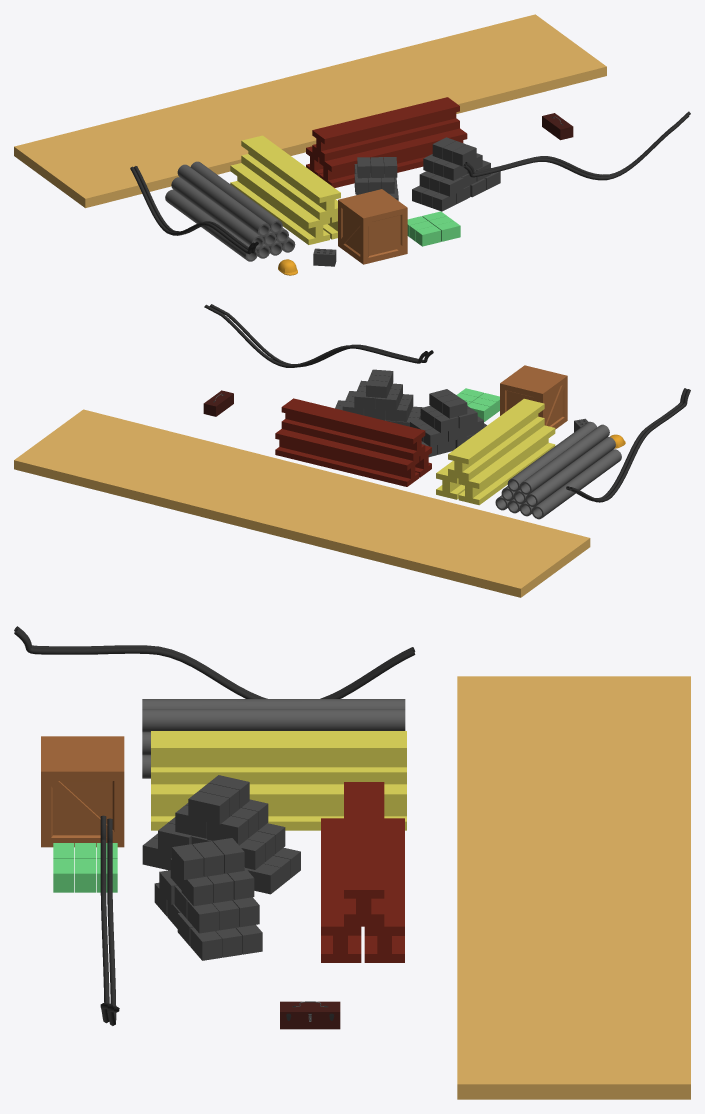
Rendered from AssetsConstru1.fbx.
The picture shows the model from 3 angles, top to bottom: view 1: azimuth 30°, elevation 25°; view 2: azimuth 150°, elevation 25°; view 3: azimuth 270°, elevation 25°; orthographic projection. The views are drawn at different scales.
Parts seen in each view (by area): view 1: planche, poutres2, poutres1, tubesPVC, CaissesBois, TasAgglos, TasAglglo2, cables2, petitTasAgglo, cables1, AggloSimple; view 2: planche, poutres2, poutres1, tubesPVC, TasAglglo2, CaissesBois, TasAgglos, cables2, cables1, petitTasAgglo; view 3: planche, poutres1, poutres2, TasAgglos, tubesPVC, CaissesBois, TasAglglo2, cables1, petitTasAgglo, cables2, hautCaisse, basCaisse.
Boxes of the visible parts, x1,y1,x2,y2 form: planche: (14,14,606,208); poutres2: (306,97,467,187); poutres1: (230,135,340,244); tubesPVC: (165,161,295,261); CaissesBois: (338,189,407,264); TasAgglos: (412,137,500,211); TasAglglo2: (354,157,398,200); cables2: (463,111,690,180); petitTasAgglo: (407,211,460,246); cables1: (130,166,258,254); AggloSimple: (313,248,336,266); planche: (14,409,590,597); poutres2: (275,398,431,486); poutres1: (436,398,555,505); tubesPVC: (495,421,621,519); TasAglglo2: (410,389,486,457); CaissesBois: (500,365,567,429); TasAgglos: (335,369,422,426); cables2: (204,304,433,367); cables1: (566,388,690,502); petitTasAgglo: (456,388,499,421); planche: (457,676,690,1099); poutres1: (151,731,406,830); poutres2: (321,782,404,962); TasAgglos: (154,838,262,960); tubesPVC: (142,699,405,778); CaissesBois: (41,736,124,847); TasAglglo2: (142,775,300,894); cables1: (14,626,415,698); petitTasAgglo: (53,843,117,892); cables2: (100,815,119,1025); hautCaisse: (280,1001,340,1015); basCaisse: (280,1016,340,1029).
Bounding box in the file's own units: 1581 × 165 × 1087.
